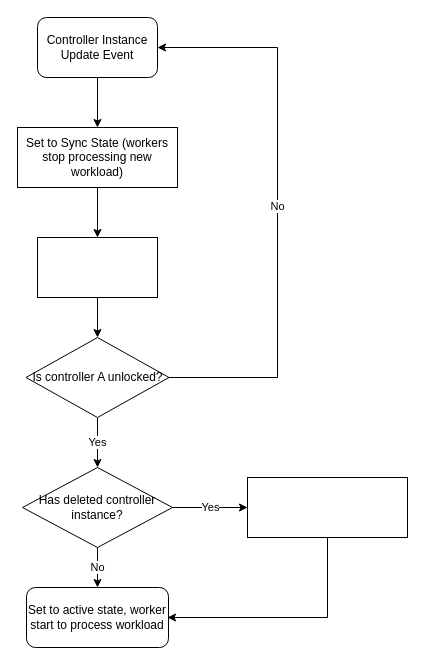
This 425x665 diagram has some shape labels left out. The centre of each missing label's shape, as x and y in pixels:
"Check updated controller configuration" goes at (97,267).
"Kick off workload ownership recalculation for deleted controller instance" goes at (327,507).
